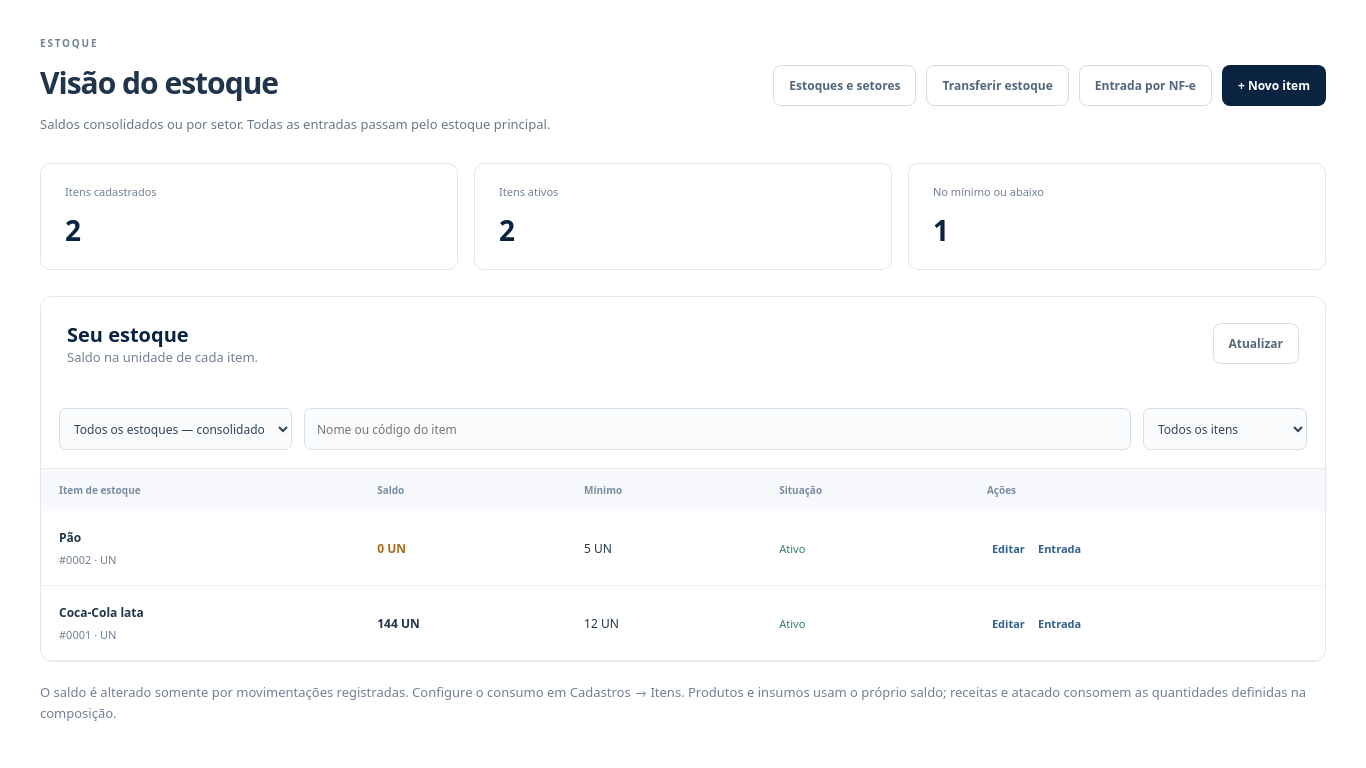
Test: shows the shared balance and filters low-stock items
Expected: the text "Coca-Cola lata" is shown, [59,604,144,621]
Expected: the text "144 UN" is shown, [377,615,420,632]
Select "No mínimo ou abaixo" in the dropdown named "Filtrar estoque" at (1225,429), box [1143,408,1307,450]
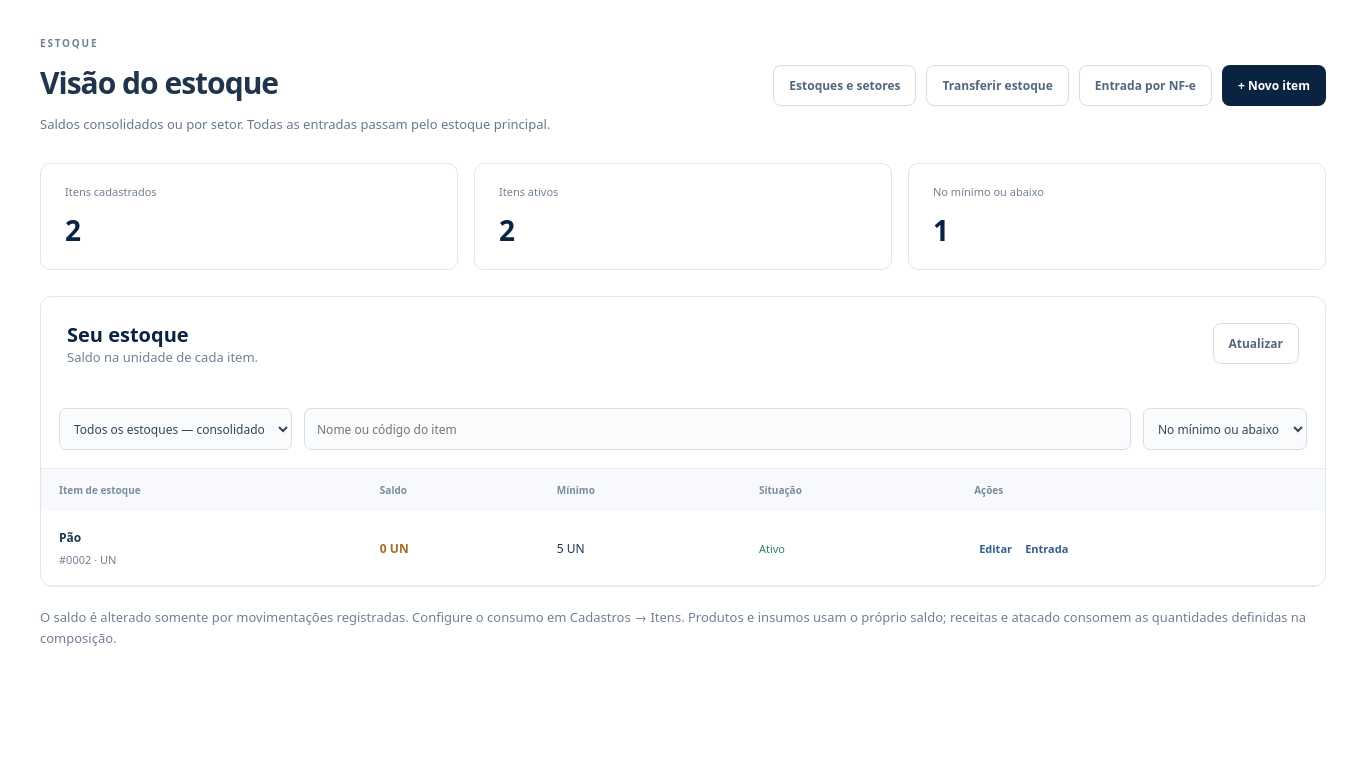
Expected: the text "Pão" is shown, [59,529,81,546]
Now the text "Coca-Cola lata" is gone
